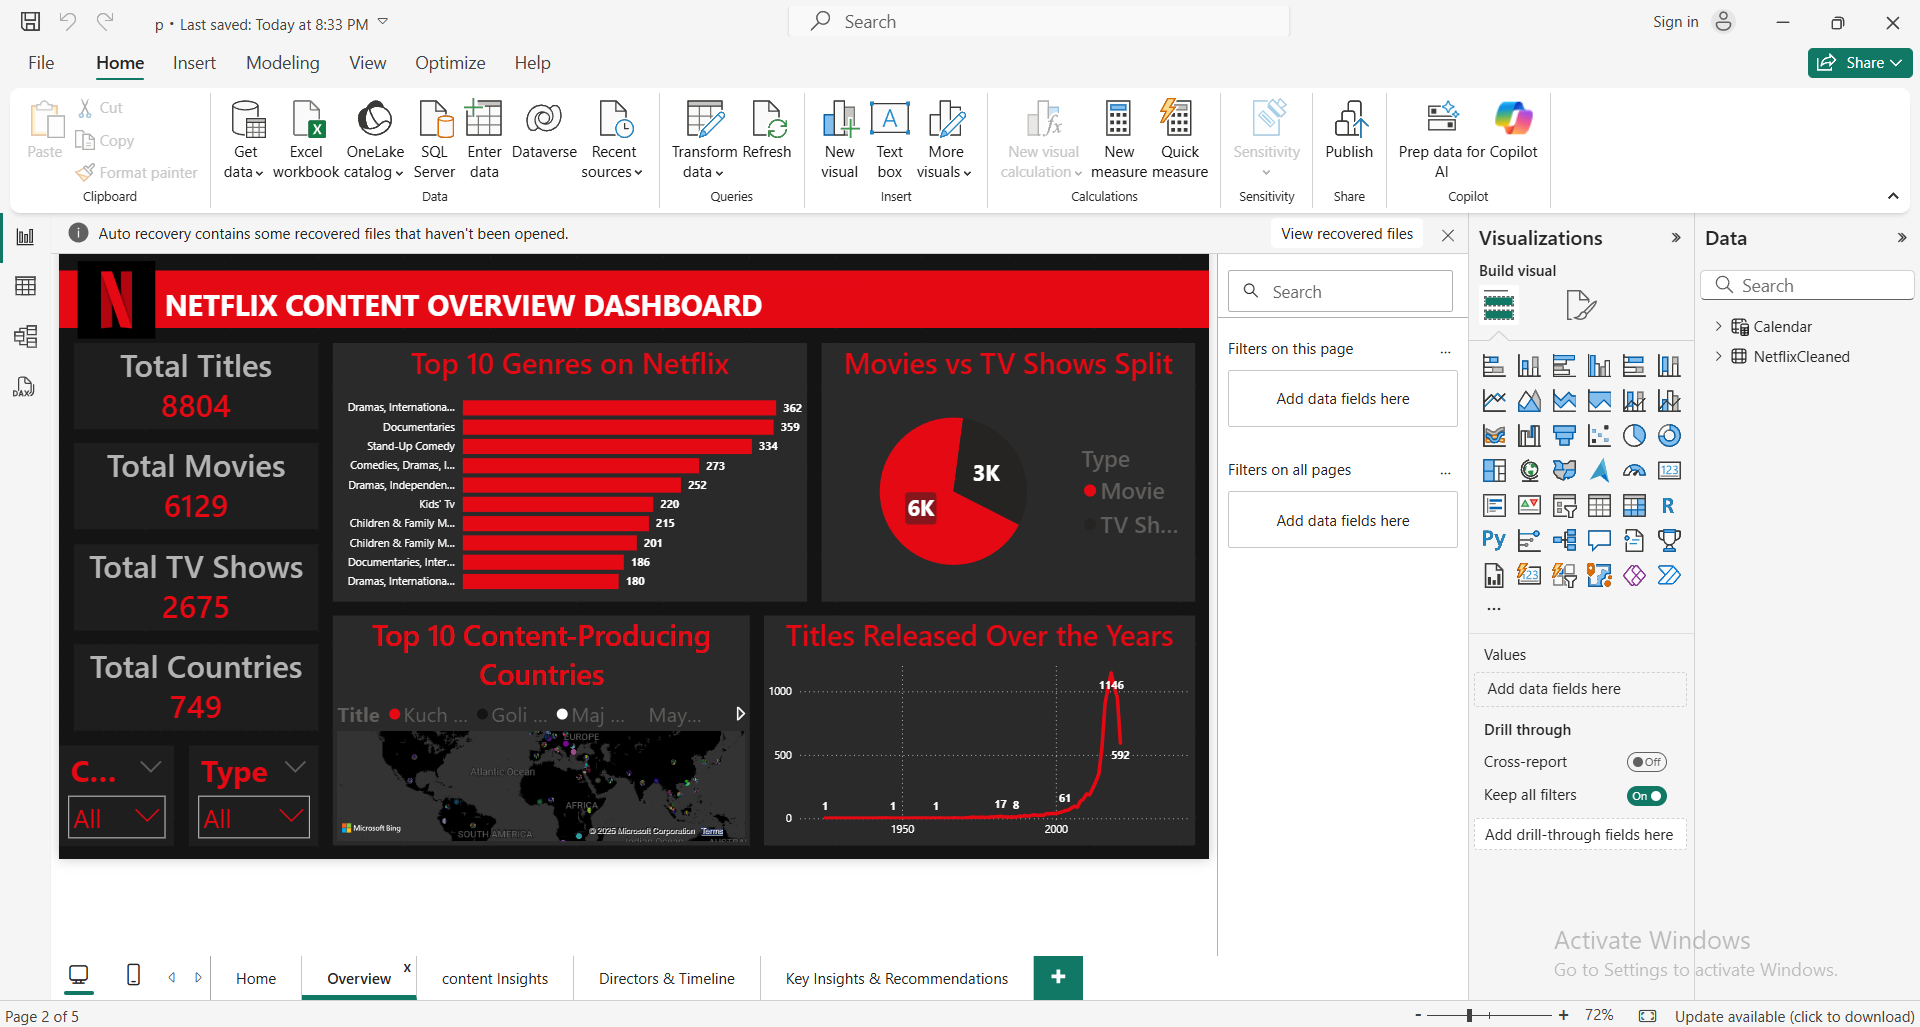

Layout of this report page (visuals, bound fields, positions):
{"tool":"powerbi","page":{"name":"Overview","canvas":[1280,720],"ordinal":1},"visuals":[{"type":"shape","box":[0,64,1280,64],"z":0},{"type":"textbox","title":"NETFLIX CONTENT OVERVIEW DASHBOARD","box":[112,80,784,48],"z":1000},{"type":"image","box":[0,48,128,96],"z":2000},{"type":"card","title":"Total Titles","fields":{"Values":["NetflixCleaned.Total Titles"]},"box":[16,144,272,96],"z":3000},{"type":"card","title":"Total Movies","fields":{"Values":["NetflixCleaned.Total Movies"]},"box":[16,256,272,96],"z":4000},{"type":"lineChart","title":"Titles Released Over the Years","fields":{"Category":["NetflixCleaned.release_year"],"Y":["NetflixCleaned.Total Titles"]},"box":[784,448,480,256],"z":5000},{"type":"card","title":"Total TV Shows","fields":{"Values":["NetflixCleaned.Total TV shows"]},"box":[16,368,272,96],"z":6000},{"type":"pieChart","title":"Movies vs TV Shows Split","fields":{"Category":["NetflixCleaned.type"],"Y":["NetflixCleaned.Total Titles"]},"box":[848,144,416,288],"z":7000},{"type":"card","title":"Total Countries","fields":{"Values":["NetflixCleaned.Unique Countries"]},"box":[16,480,272,96],"z":8000},{"type":"map","title":"Top 10 Content-Producing Countries","fields":{"Category":["NetflixCleaned.country"],"Series":["NetflixCleaned.title"]},"box":[304,448,464,256],"z":9000},{"type":"barChart","title":"Top 10 Genres on Netflix","fields":{"Y":["NetflixCleaned.Total Titles"],"Category":["NetflixCleaned.genre"]},"box":[304,144,528,288],"z":10000},{"type":"slicer","fields":{"Values":["NetflixCleaned.country"]},"box":[0,592,128,112],"z":11000},{"type":"slicer","fields":{"Values":["NetflixCleaned.rating"]},"box":[144,592,144,112],"z":12000}]}

Visuals, with their boxes on the page's 1280x720 design canvas (x1, y1, x2, y2). These are canvas units, not pixel positions in the 1920x1027 screenshot, which may show the page scaled, cropped or inside an application window:
shape: 0 64 1280 128
"NETFLIX CONTENT OVERVIEW DASHBOARD" textbox: 112 80 896 128
image: 0 48 128 144
"Total Titles" card: 16 144 288 240
"Total Movies" card: 16 256 288 352
"Titles Released Over the Years" lineChart: 784 448 1264 704
"Total TV Shows" card: 16 368 288 464
"Movies vs TV Shows Split" pieChart: 848 144 1264 432
"Total Countries" card: 16 480 288 576
"Top 10 Content-Producing Countries" map: 304 448 768 704
"Top 10 Genres on Netflix" barChart: 304 144 832 432
slicer - NetflixCleaned.country: 0 592 128 704
slicer - NetflixCleaned.rating: 144 592 288 704
